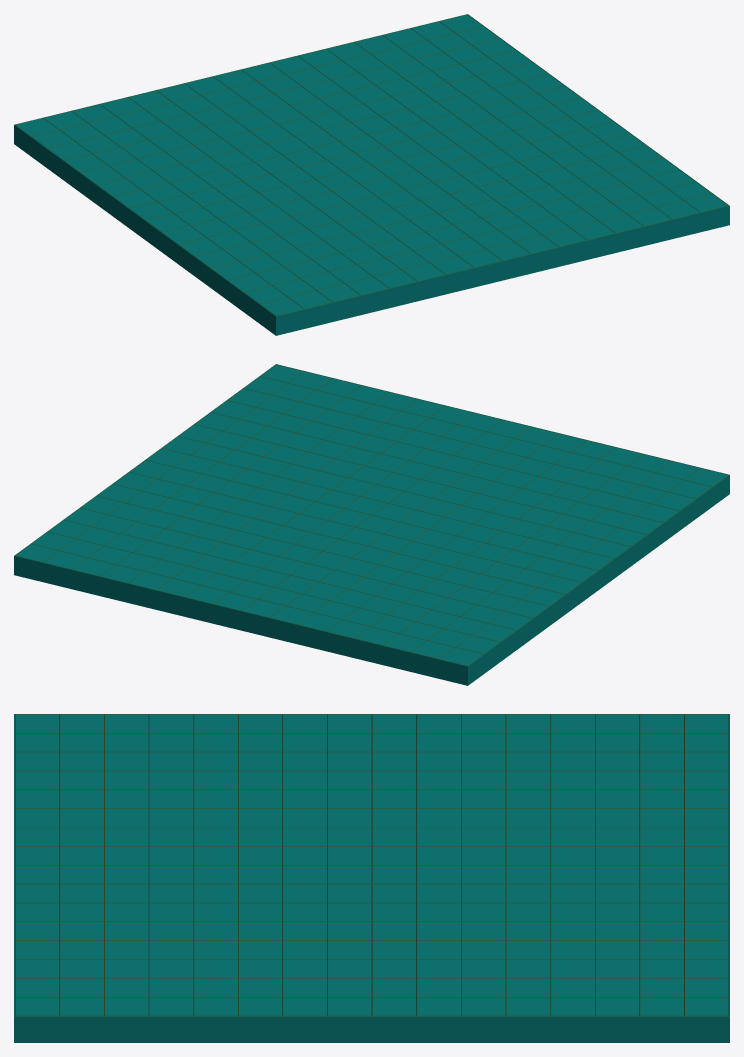
File: Green Cutting Board2.glb
3 views of the same model, one above another, from view 1: azimuth 30°, elevation 25°; view 2: azimuth 150°, elevation 25°; view 3: azimuth 270°, elevation 25° (orthographic). The views are drawn at different scales.
Parts seen in each view (by area): view 1: green board, grid low density; view 2: green board, grid low density; view 3: green board, grid low density.
Part boxes in pixels (x1,y1,x2,y2): green board: (14,14,729,335); grid low density: (14,14,728,316); green board: (14,364,729,685); grid low density: (15,364,728,666); green board: (14,714,729,1042); grid low density: (14,714,729,1016).
Size of the model in its own units: 3.55 by 0.1466 by 3.55.
